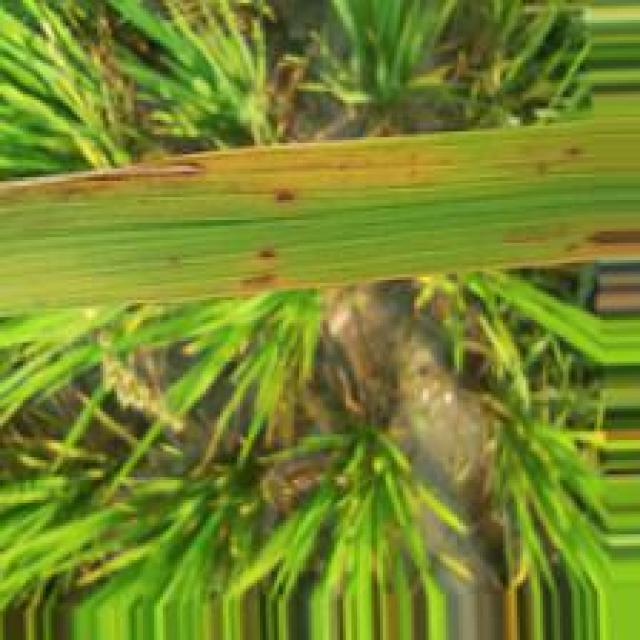Brown_Spot: (57, 154, 204, 193), (577, 227, 640, 246), (234, 271, 277, 295), (263, 186, 298, 209), (247, 247, 278, 265), (559, 144, 586, 156)
